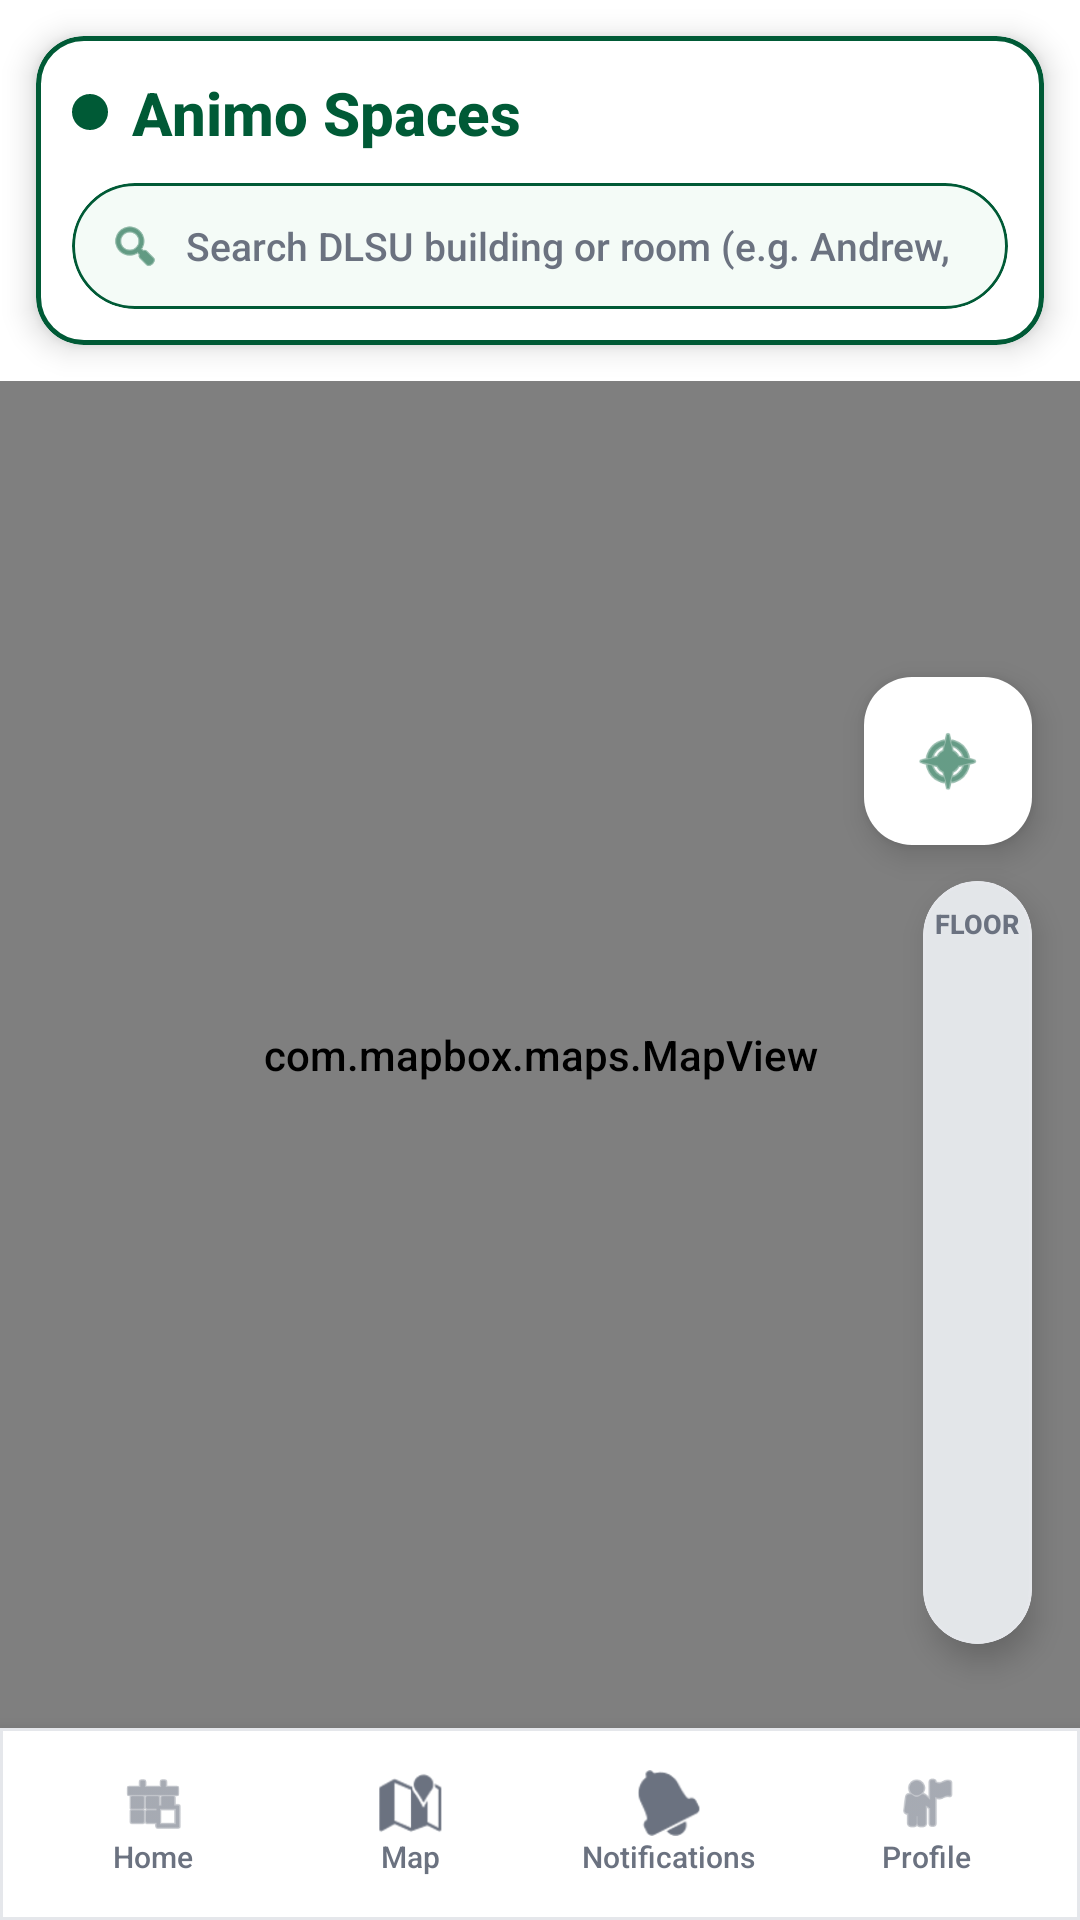

Where icons sit on this 1080 × 1920 app screen, as {"left": x1, "top": y1, "right": x2, "bottom": y2}:
Recenter Map: {"left": 864, "top": 677, "right": 1032, "bottom": 845}
